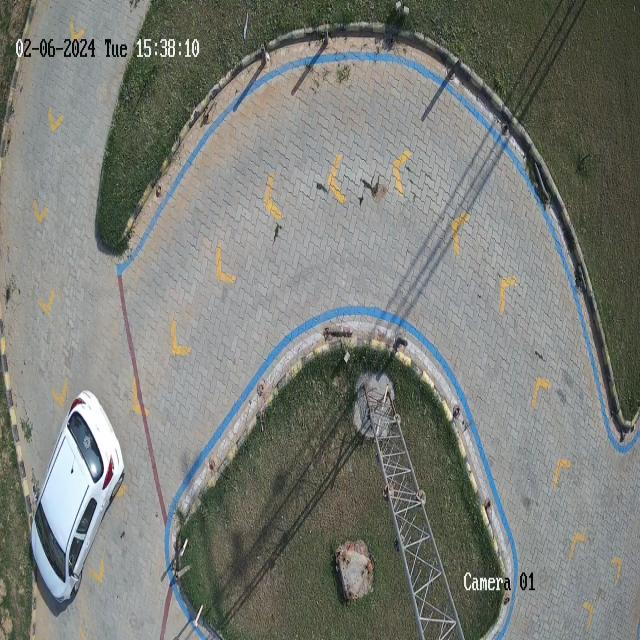car: (31, 391, 124, 604)
